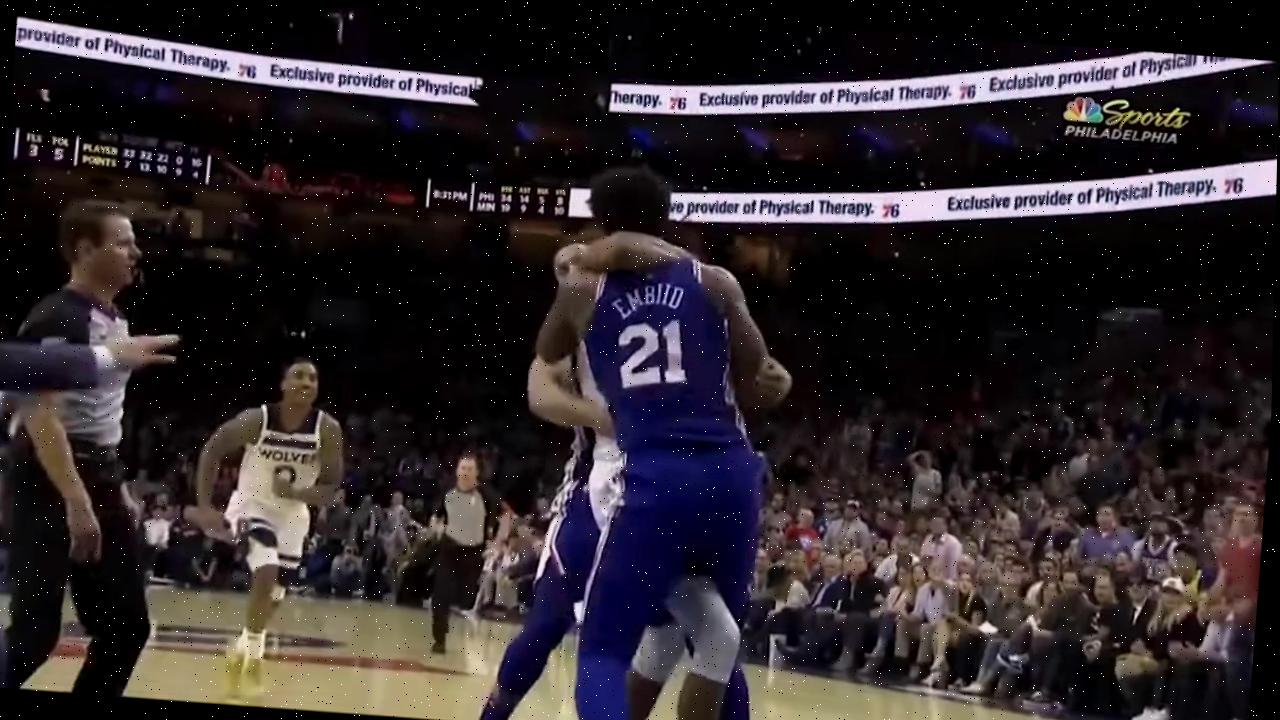foul: (458, 178, 842, 720)
